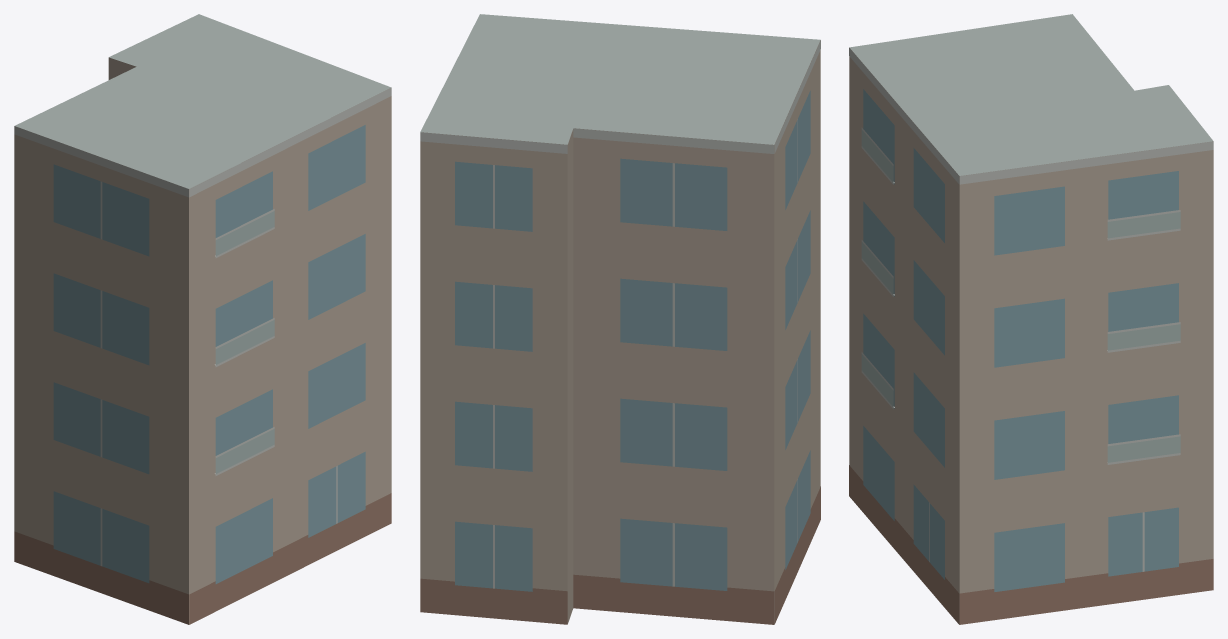
File: survey-upis-32694760.glb
3 views of the same model, side by side, from view 1: azimuth 30°, elevation 25°; view 2: azimuth 150°, elevation 25°; view 3: azimuth 270°, elevation 25° (orthographic). The views are drawn at different scales.
Visible parts, largest first — view 1: survey-upis-32694760.tmp; view 2: survey-upis-32694760.tmp; view 3: survey-upis-32694760.tmp.
Part boxes in pixels (<box>): survey-upis-32694760.tmp: <box>14,14,391,624</box>; survey-upis-32694760.tmp: <box>420,14,820,624</box>; survey-upis-32694760.tmp: <box>849,14,1213,624</box>.
Bounding box in the file's own units: 9.8 × 12.65 × 9.32.
